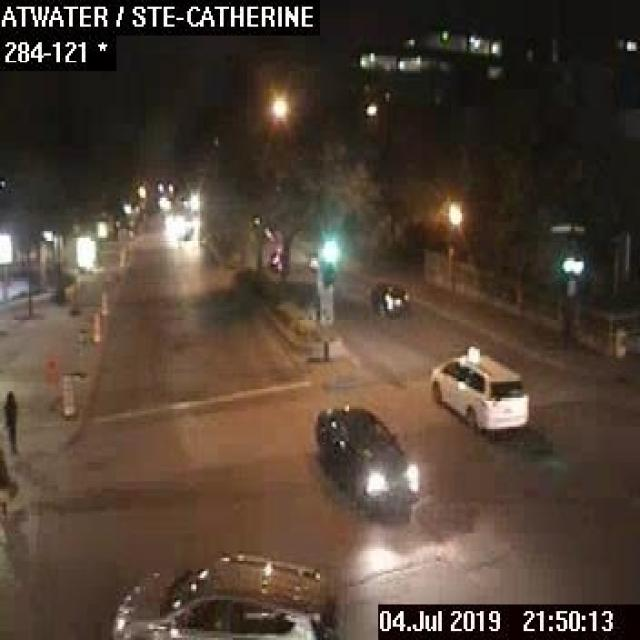construction: (58, 373, 75, 418), (91, 310, 99, 342), (99, 290, 106, 315)
pedestrian: (0, 449, 15, 547), (2, 384, 18, 454)
vehicle: (100, 546, 349, 638), (313, 400, 422, 516), (427, 344, 531, 429), (366, 278, 409, 320), (266, 246, 289, 268)
